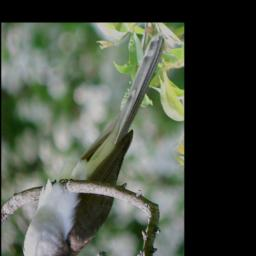Cuckoo: (16, 32, 168, 256)
